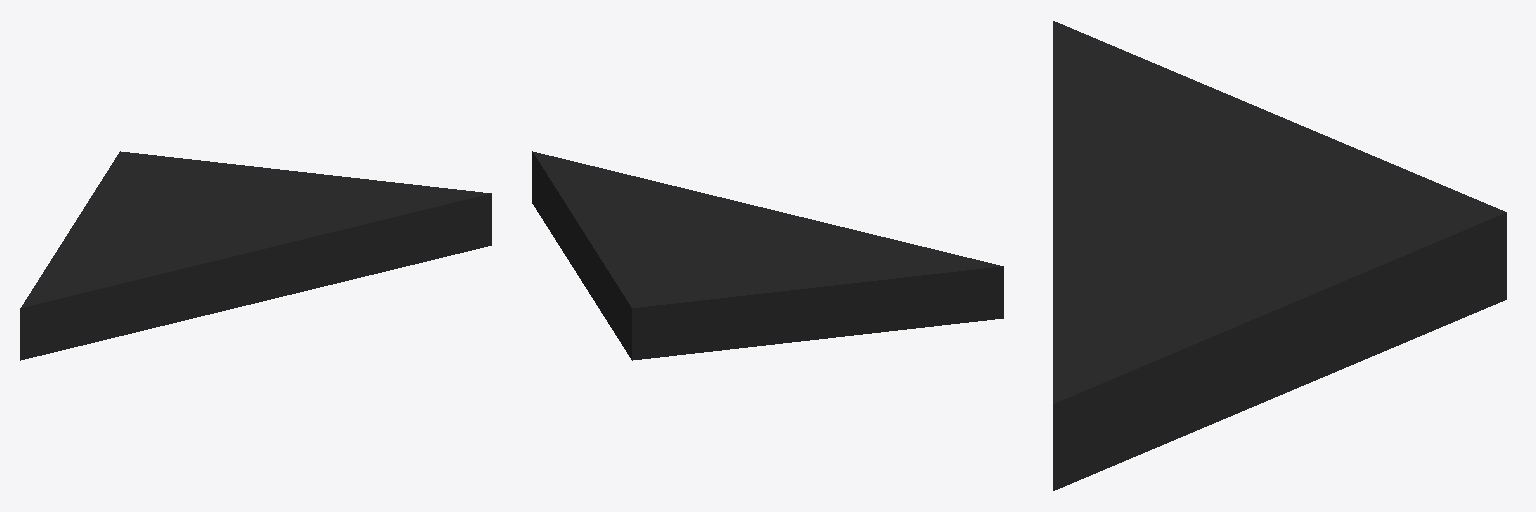
robot.urdf — Triangle3:
<?xml version="1.0" ?>
<robot name="Triangle3">

    <link name="base">
        <contact>
            <lateral_friction value="1.0"/>
            <spinning_friction value="1.0"/>
            <restitution value="0.5"/>
        </contact>
        <inertial>
            <origin rpy="0 0 0" xyz="0 0 0"/>
            <mass value="999999"/>
            <inertia ixx="0.2125" ixy="-0.005" ixz="0.0225" iyy="0.205" iyz="0.045" izz="0.0125"/>
        </inertial>
        <visual>
            <geometry>
                <mesh filename="triangle3.dae" scale="10 10 10"/>
            </geometry>
            <origin rpy="0 0 0" xyz="0 0 0"/>
            <material name="black">
                <color rgba="0.2 0.2 0.2 1"/>
            </material>
        </visual>
        <collision>
            <geometry>
                 <mesh filename="triangle3.dae" scale="10 10 50"/>
            </geometry>
            <origin rpy="0 0 0" xyz="0 0 0"/>
        </collision>
	</link>

</robot>

--- What the picture shows (computed from the rendered views, not written in the file) ---
Views: 3 orthographic renders of the robot side by side, from view 1: azimuth 30°, elevation 25°; view 2: azimuth 150°, elevation 25°; view 3: azimuth 270°, elevation 25°.
Model Triangle3 with 1 links and 0 joints (none), rooted at base, posed every joint at zero.
Links seen in each view (by area): view 1: base; view 2: base; view 3: base.
Boxes of the visible links, x1,y1,x2,y2 form: base: (20,151,491,360); base: (532,151,1003,360); base: (1053,21,1506,490).
Size in the robot's own frame: 0.5657 by 0.2828 by 0.06 metres.
Meshes: 1 distinct files referenced, 1 mesh visuals loaded (1 Collada DAE).